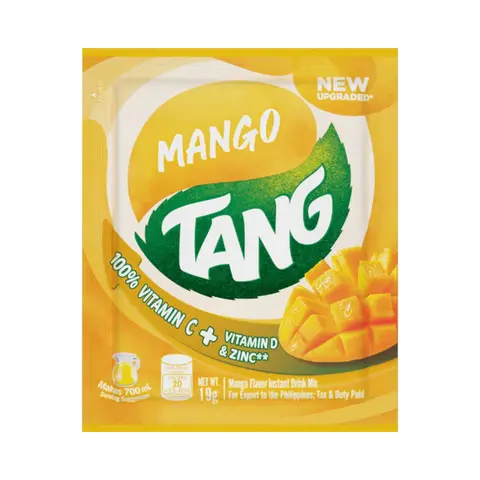non-toxic_waste: (82, 47, 397, 433)
